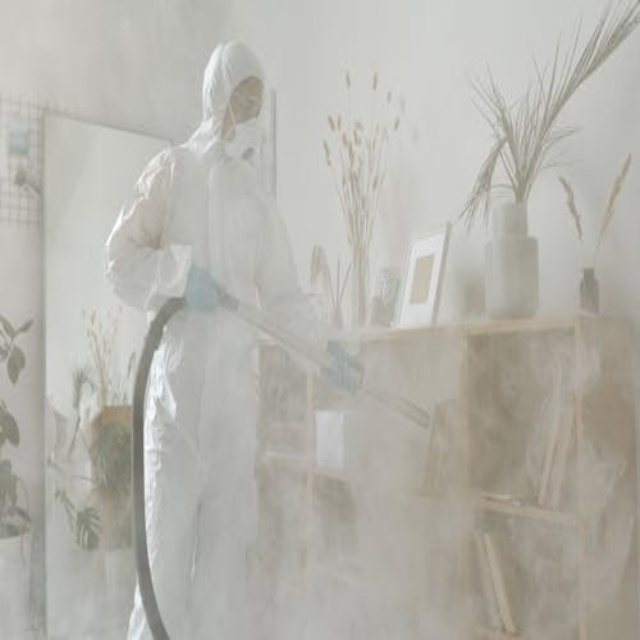Guantes: (324, 341, 363, 396), (184, 264, 221, 311)
Mascara: (221, 104, 259, 161)
